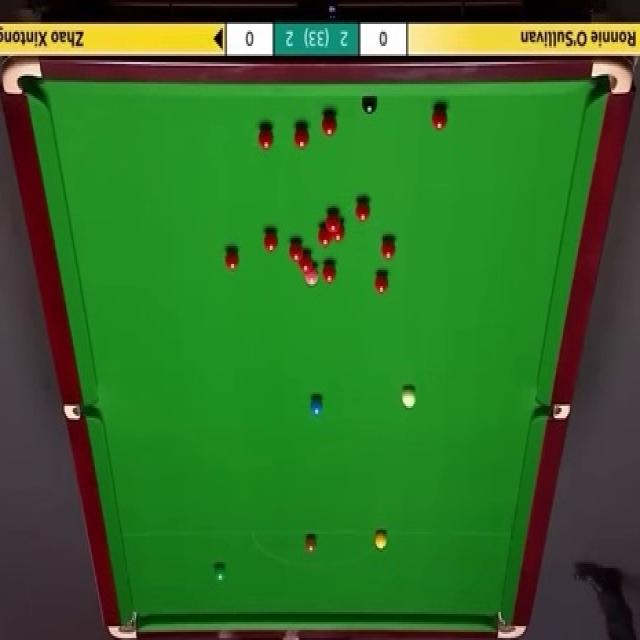black-ball: (361, 95, 378, 114)
blue-ball: (310, 395, 324, 420)
brown-ball: (305, 534, 317, 552)
green-ball: (213, 562, 228, 582)
pink-ball: (304, 264, 317, 286)
red-ball: (224, 247, 241, 275), (431, 106, 448, 131), (258, 125, 274, 151), (380, 236, 396, 260), (294, 124, 309, 149), (264, 228, 279, 253), (322, 112, 336, 137), (318, 222, 332, 246), (356, 199, 370, 222), (289, 239, 303, 262), (374, 272, 388, 294), (298, 252, 312, 274), (322, 262, 336, 281), (326, 210, 339, 230), (332, 222, 345, 242)
white-ball: (402, 385, 417, 412)
yellow-ball: (375, 531, 388, 551)
